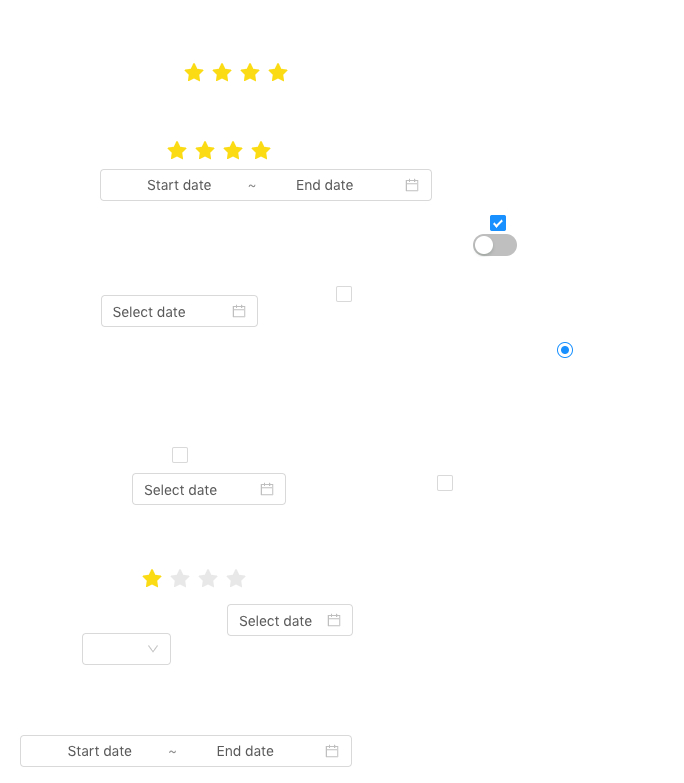Checkbox: (172, 444, 188, 465), (437, 472, 453, 493), (490, 212, 506, 233), (336, 283, 352, 304)
DatePicker: (101, 295, 258, 327), (132, 473, 286, 505), (227, 604, 353, 636)
Radio: (557, 339, 573, 359)
RangePicker: (20, 735, 650, 767), (100, 169, 587, 201)
Rate: (167, 134, 287, 166), (184, 56, 304, 88), (142, 562, 262, 594)
Select: (82, 633, 171, 665)
Switch: (473, 233, 517, 257)
